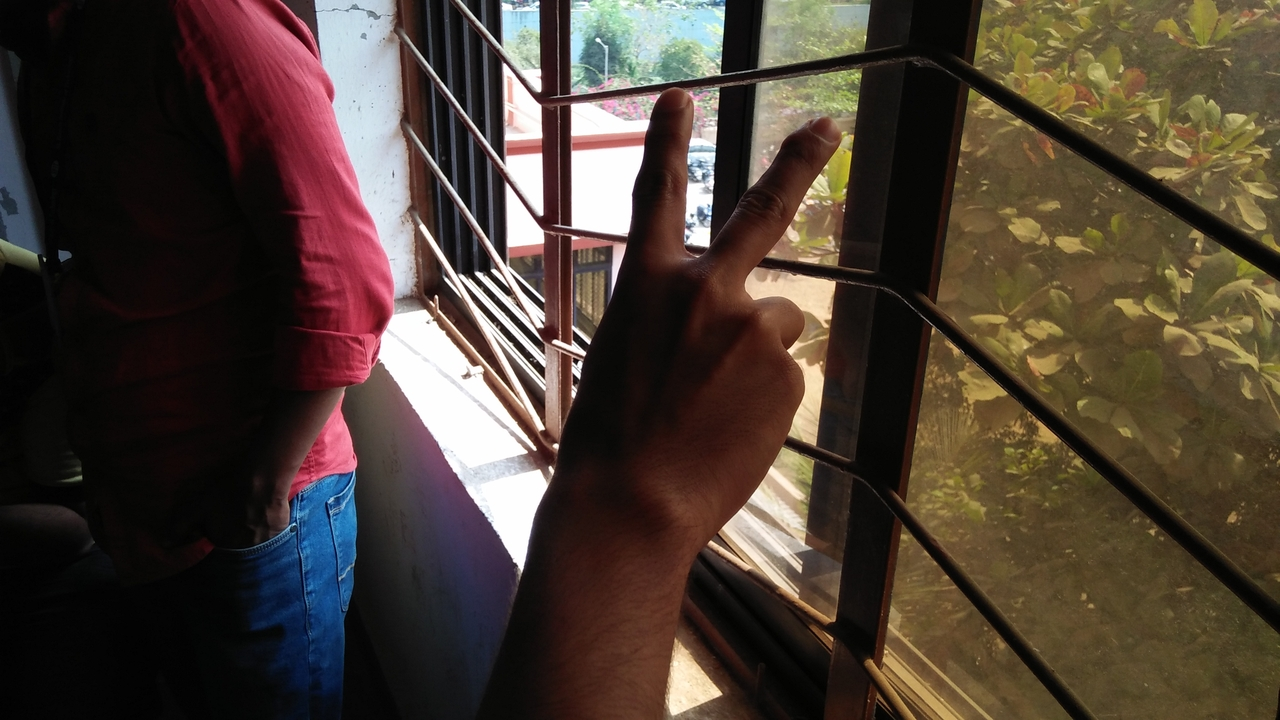fingertip: (786, 106, 850, 160), (646, 78, 702, 130)
